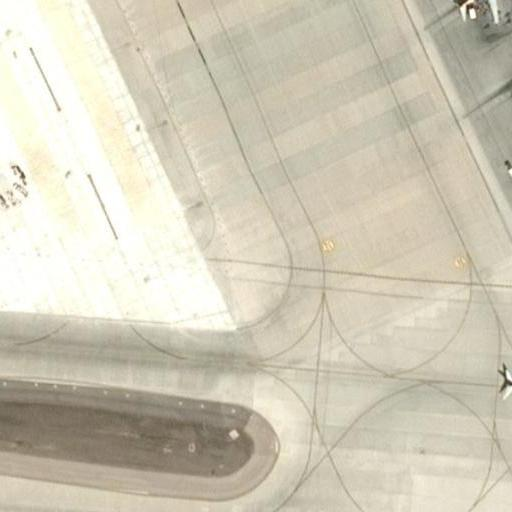Aircraft: (493, 340, 512, 424), (442, 0, 512, 22)
